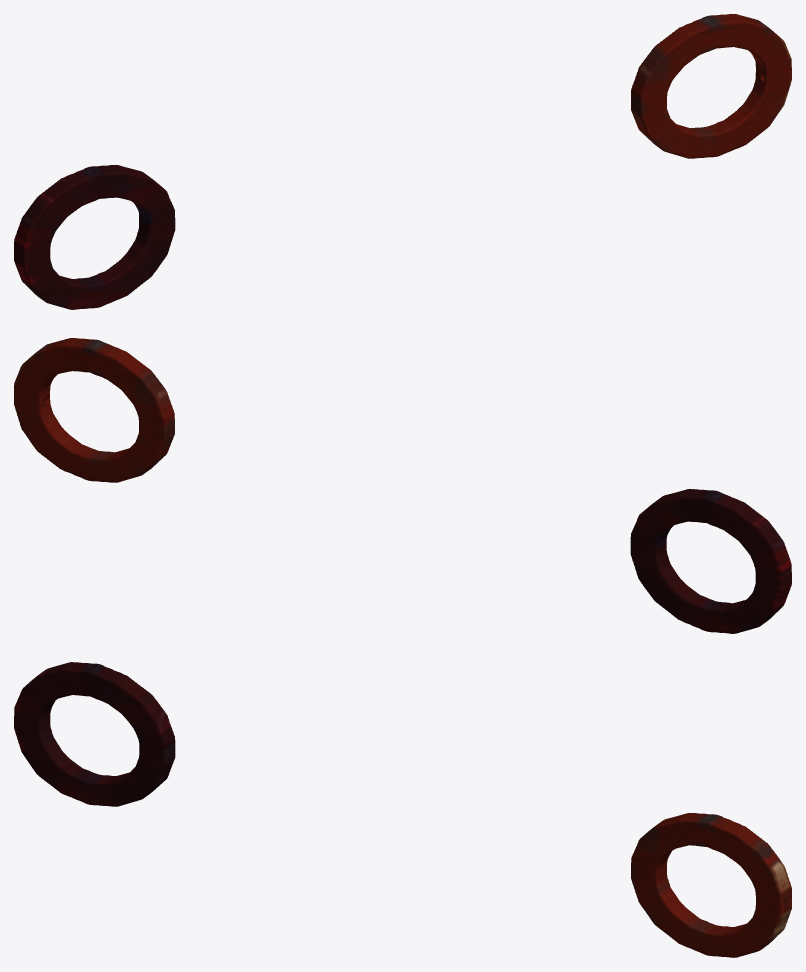
3 views of the same model, one above another, from view 1: azimuth 30°, elevation 25°; view 2: azimuth 150°, elevation 25°; view 3: azimuth 330°, elevation 25° (orthographic).
Visible parts, largest first — view 1: world; view 2: world; view 3: world.
Boxes of the visible parts, left/top/right/bottom form: world: left=14, top=14, right=791, bottom=309; world: left=14, top=338, right=791, bottom=633; world: left=14, top=662, right=791, bottom=957.
Size of the model in its own units: 1 by 0.1676 by 0.0248.
Materials: 1 (1 with a texture image).
